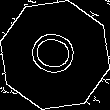O_E: (25, 28, 85, 82)
